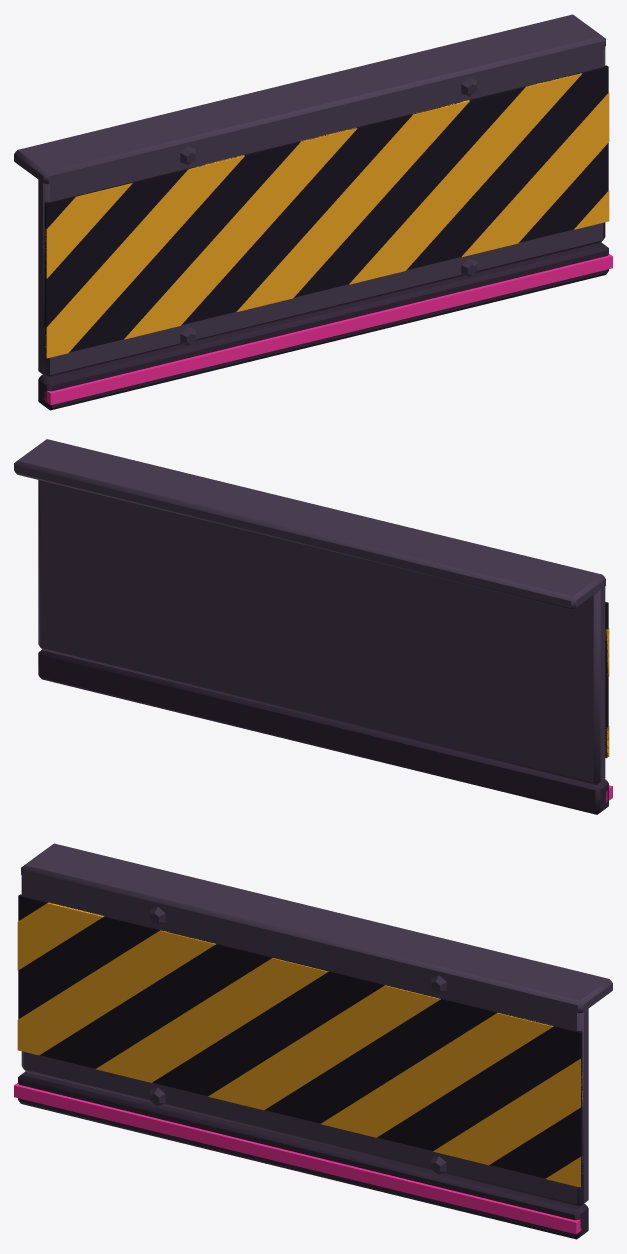
The model's file is edge_trim__lower.glb.
3 renders of one model, top to bottom at view 1: azimuth 30°, elevation 25°; view 2: azimuth 150°, elevation 25°; view 3: azimuth 330°, elevation 25°, orthographic.
Parts seen in each view (by area): view 1: edge_trim; view 2: edge_trim; view 3: edge_trim.
Part boxes in pixels (x1=…): edge_trim: x1=14, y1=14, x2=612, y2=410; edge_trim: x1=14, y1=439, x2=612, y2=814; edge_trim: x1=14, y1=843, x2=612, y2=1239.
Bounding box in the file's own units: 1 × 0.402 × 0.119.
